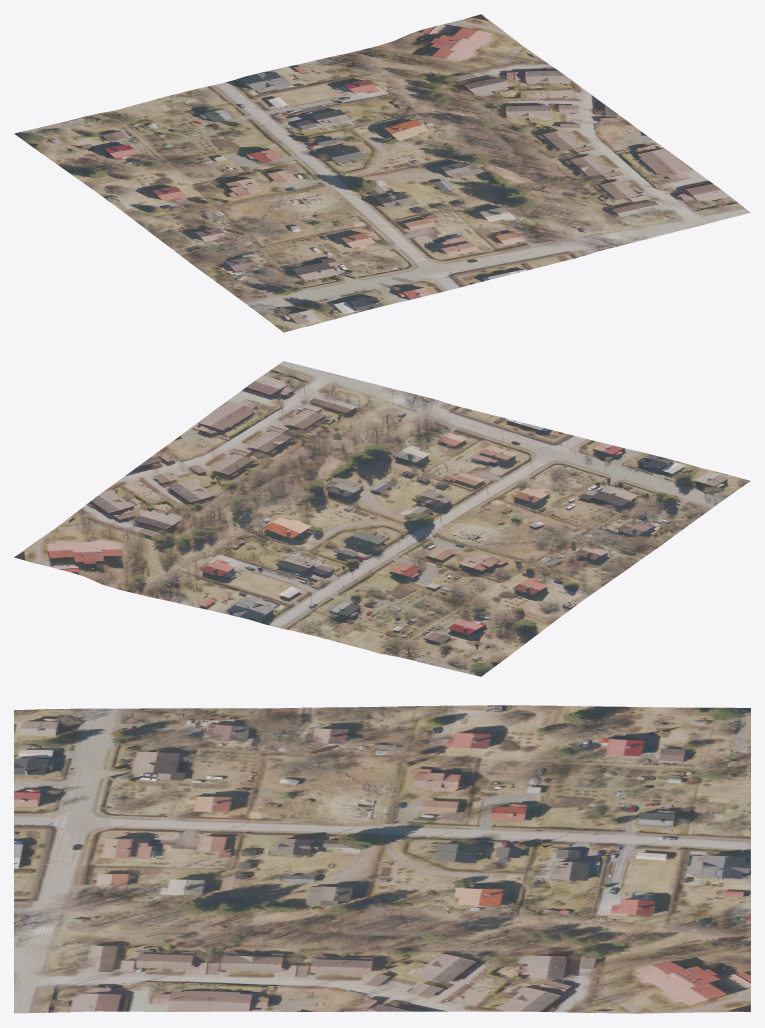
The model's file is CM_Terrain_24492302_6818156.fbx.
The picture shows the model from 3 angles, top to bottom: view 1: azimuth 30°, elevation 25°; view 2: azimuth 150°, elevation 25°; view 3: azimuth 270°, elevation 25°; orthographic projection. The views are drawn at different scales.
Visible parts, largest first — view 1: CM_Terrain_24492302_6818156_LOD0; view 2: CM_Terrain_24492302_6818156_LOD0; view 3: CM_Terrain_24492302_6818156_LOD0.
Boxes of the visible parts, bbox=[...] form: CM_Terrain_24492302_6818156_LOD0: bbox=[14, 14, 750, 332]; CM_Terrain_24492302_6818156_LOD0: bbox=[14, 361, 750, 676]; CM_Terrain_24492302_6818156_LOD0: bbox=[14, 705, 750, 1013].
Size of what is drawn, in the model's own units: 205 by 3.42 by 205.
